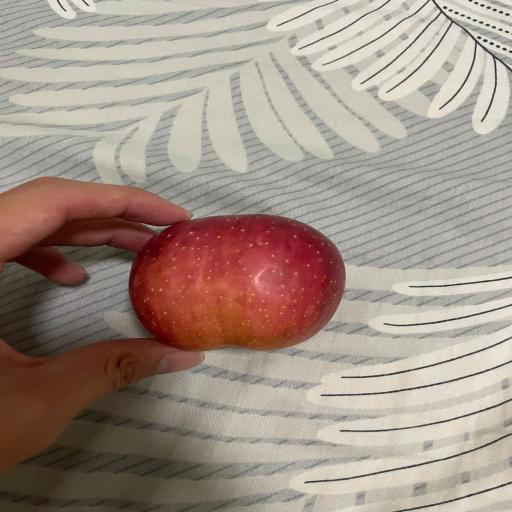apple: (129, 214, 345, 350)
